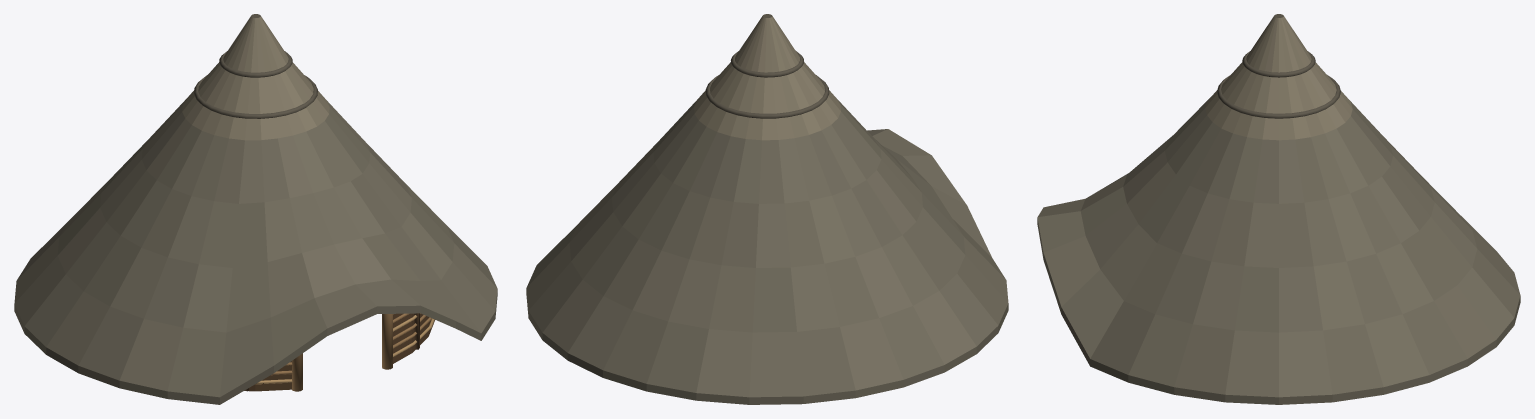
File: swept_thatch_roundhouse_lod0.glb
The picture shows the model from 3 angles, left to right: view 1: azimuth 30°, elevation 25°; view 2: azimuth 150°, elevation 25°; view 3: azimuth 270°, elevation 25°; orthographic projection.
Parts seen in each view (by area): view 1: swept_thatch_roundhouse; view 2: swept_thatch_roundhouse; view 3: swept_thatch_roundhouse.
Boxes of the visible parts, left/top/right/bottom form: swept_thatch_roundhouse: left=14, top=14, right=497, bottom=404; swept_thatch_roundhouse: left=526, top=14, right=1008, bottom=404; swept_thatch_roundhouse: left=1037, top=14, right=1520, bottom=404.
Bounding box in the file's own units: 5.44 × 3.71 × 5.44.
